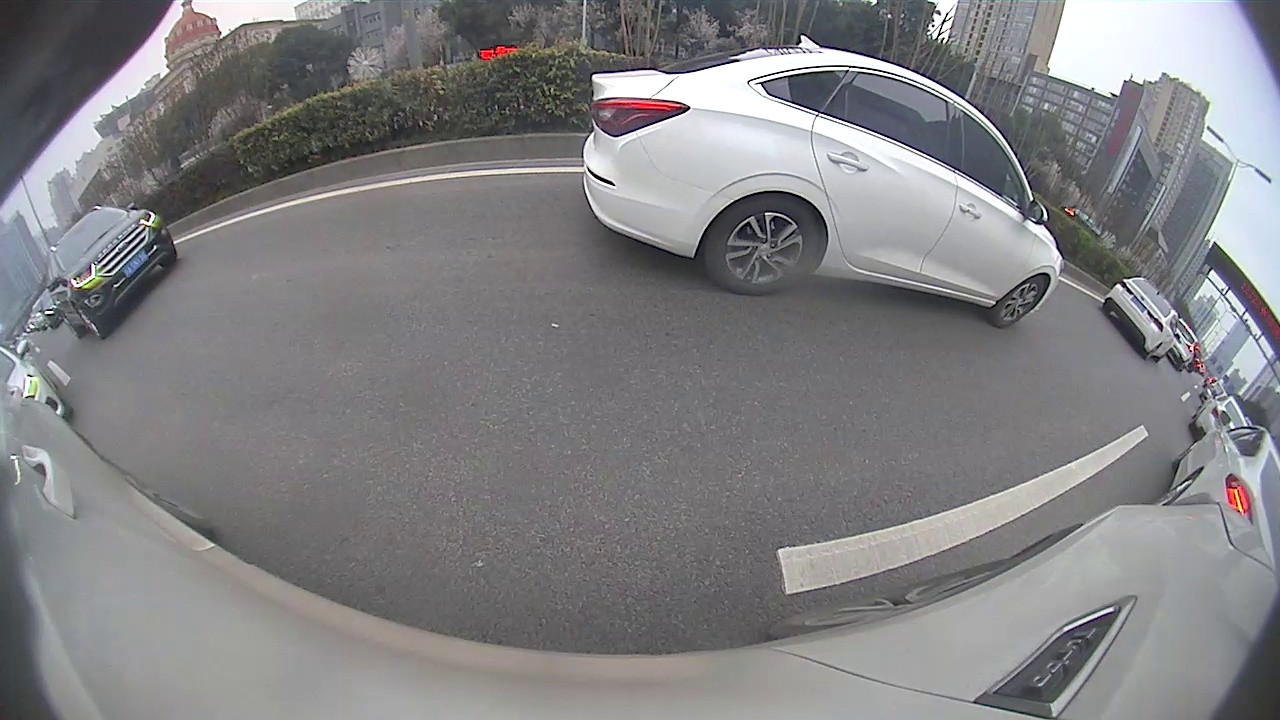car: (578, 33, 1065, 331), (1152, 412, 1277, 557), (46, 206, 178, 340), (1102, 273, 1182, 363)
front: (993, 273, 1048, 330), (76, 307, 106, 341)
rear: (705, 195, 821, 299)
